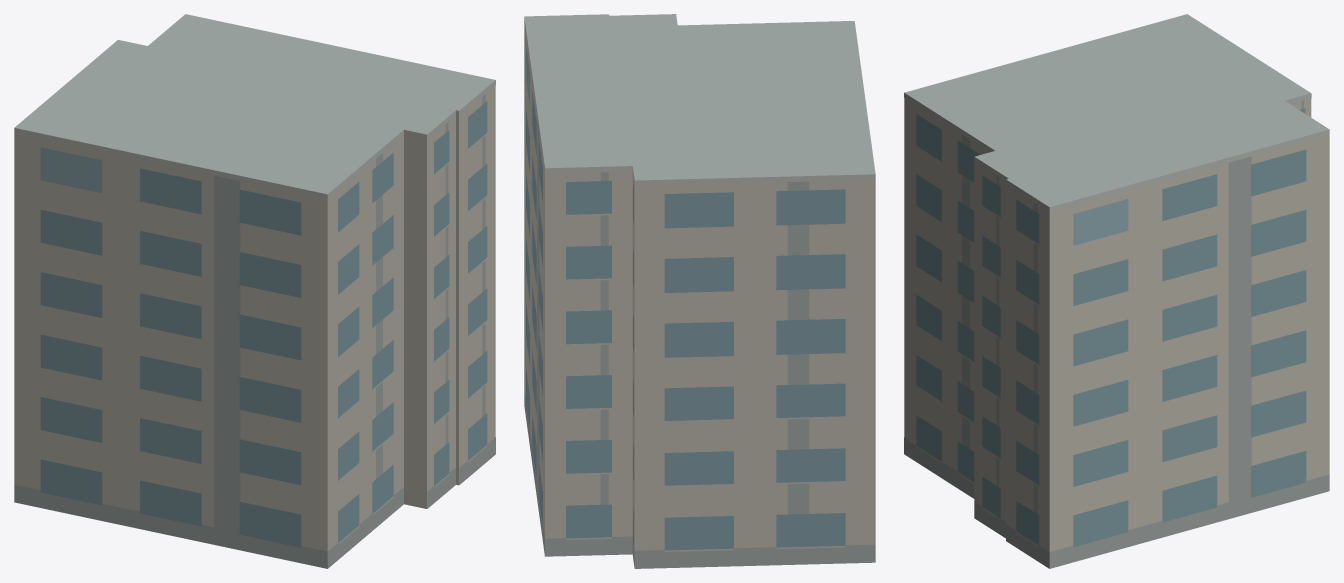
The model's file is survey-upis-33024330.glb.
The picture shows the model from 3 angles, left to right: view 1: azimuth 30°, elevation 25°; view 2: azimuth 150°, elevation 25°; view 3: azimuth 270°, elevation 25°; orthographic projection. The views are drawn at different scales.
Visible parts, largest first — view 1: survey-upis-33024330.tmp; view 2: survey-upis-33024330.tmp; view 3: survey-upis-33024330.tmp.
Boxes of the visible parts, box(x1,y1,x2,y2) form: survey-upis-33024330.tmp: box(14, 14, 495, 568); survey-upis-33024330.tmp: box(524, 14, 875, 568); survey-upis-33024330.tmp: box(904, 14, 1329, 568).
Bounding box in the file's own units: 19.72 × 17.2 × 18.35.
